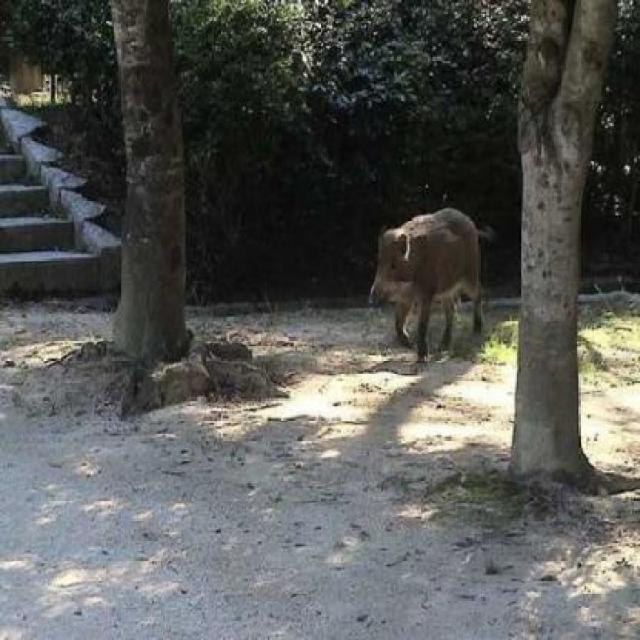pig: (358, 198, 502, 406)
